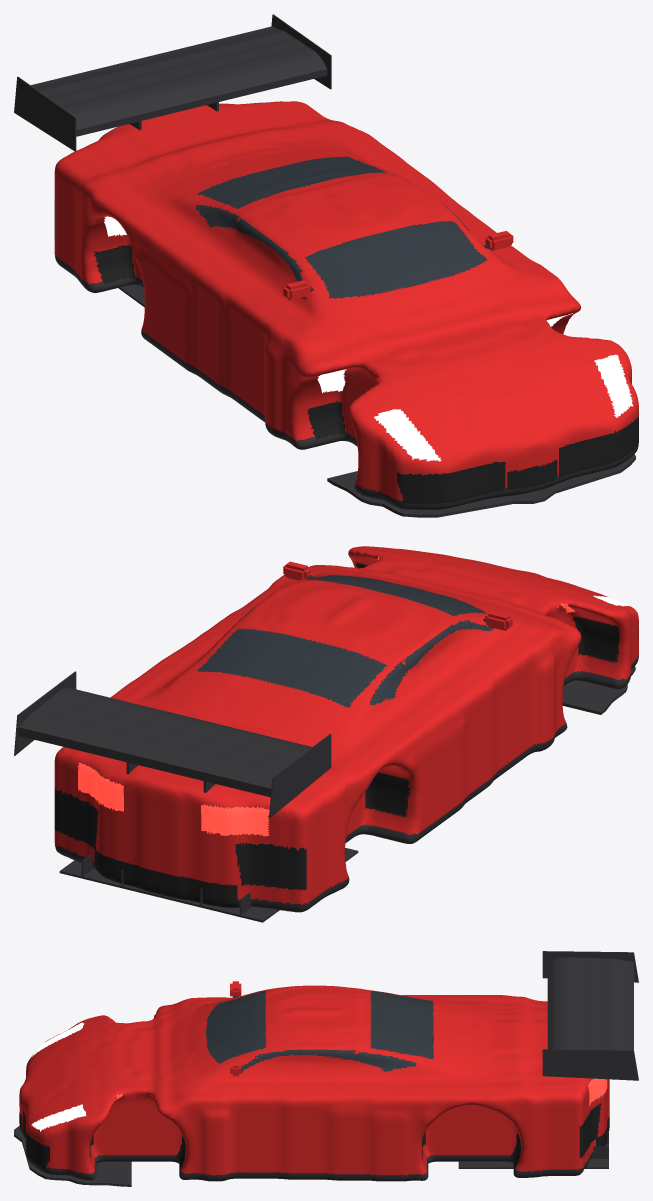
The model's file is Ferrari296GT3.fbx.
The picture shows the model from 3 angles, top to bottom: view 1: azimuth 30°, elevation 25°; view 2: azimuth 150°, elevation 25°; view 3: azimuth 270°, elevation 25°; orthographic projection. The views are drawn at different scales.
Parts seen in each view (by area): view 1: Body, Wing, Splitter, WingEndplateL, WingEndplateR; view 2: Body, Wing, WingEndplateL, Diffuser, Splitter, WingEndplateR; view 3: Body, Wing, WingEndplateR, Splitter, WingEndplateL, Diffuser.
Part boxes in pixels (x1=…): Body: x1=54, y1=101, x2=638, y2=509; Wing: x1=31, y1=26, x2=327, y2=136; Splitter: x1=327, y1=454, x2=635, y2=517; WingEndplateL: x1=14, y1=76, x2=76, y2=151; WingEndplateR: x1=271, y1=14, x2=331, y2=89; Body: x1=54, y1=546, x2=638, y2=912; Wing: x1=18, y1=687, x2=311, y2=797; WingEndplateL: x1=269, y1=733, x2=331, y2=817; Diffuser: x1=59, y1=847, x2=358, y2=922; Splitter: x1=562, y1=666, x2=635, y2=714; WingEndplateR: x1=14, y1=671, x2=76, y2=755; Body: x1=19, y1=985, x2=609, y2=1181; Wing: x1=547, y1=957, x2=633, y2=1050; WingEndplateR: x1=542, y1=1049, x2=638, y2=1080; Splitter: x1=14, y1=1126, x2=131, y2=1186; WingEndplateL: x1=542, y1=951, x2=638, y2=982; Diffuser: x1=458, y1=1143, x2=608, y2=1168.
Bounding box in the file's own units: 2.04 × 1.18 × 4.99.
